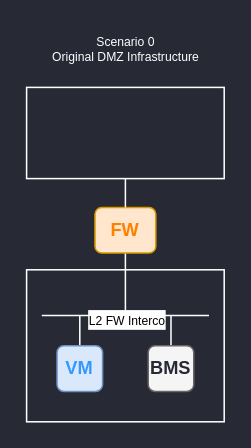
The diagram is 251 pixels wide and 448 high, and some of its shapes have lost their labels. The box of each missing label's shape, as (x1, y1, x2, y2) in pixels:
DMZ: (25, 268, 224, 422)
Outisde: (25, 86, 224, 179)
